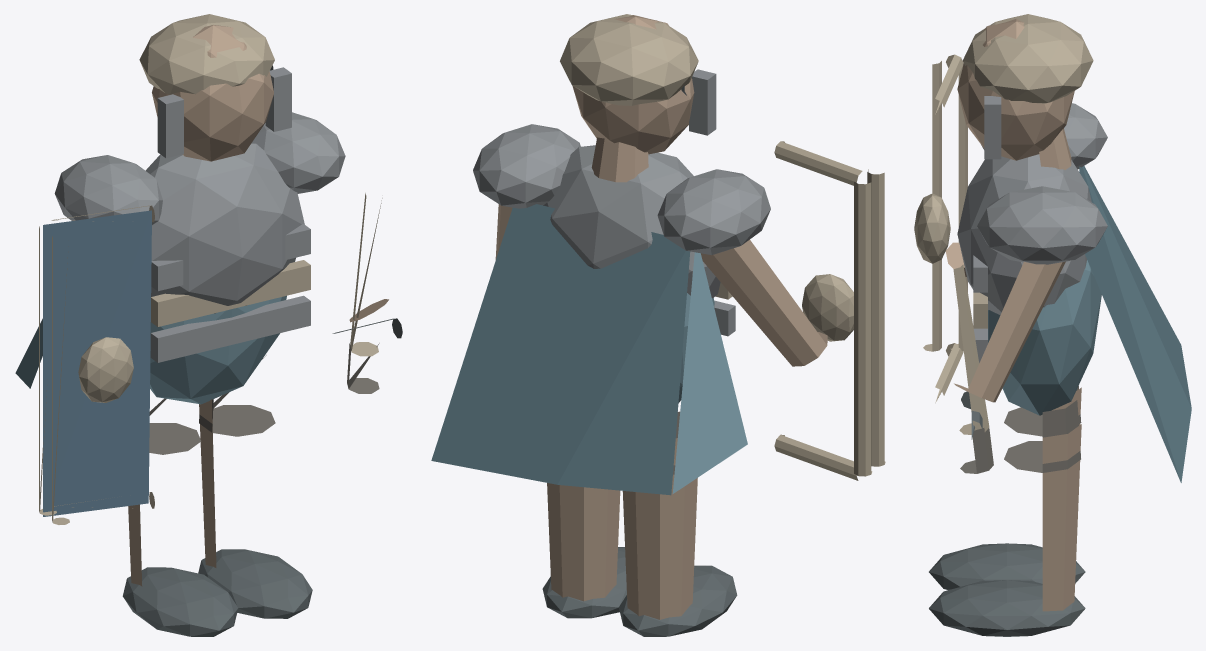
Rendered from enemy-medium.glb.
The picture shows the model from 3 angles, left to right: view 1: azimuth 30°, elevation 25°; view 2: azimuth 150°, elevation 25°; view 3: azimuth 270°, elevation 25°; orthographic projection. The views are drawn at different scales.
Parts seen in each view (by area): view 1: world; view 2: world; view 3: world.
Boxes of the visible parts, box(x1,y1,x2,y2) form: world: box(15, 14, 402, 636); world: box(431, 14, 885, 636); world: box(914, 14, 1191, 636).
Size of the model in its own units: 16.16 by 24.8 by 10.6.
